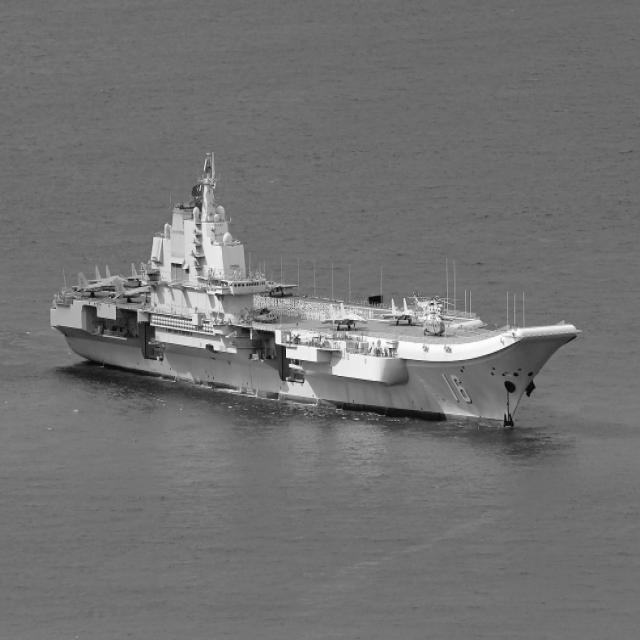Portanaves: (43, 142, 590, 446)
